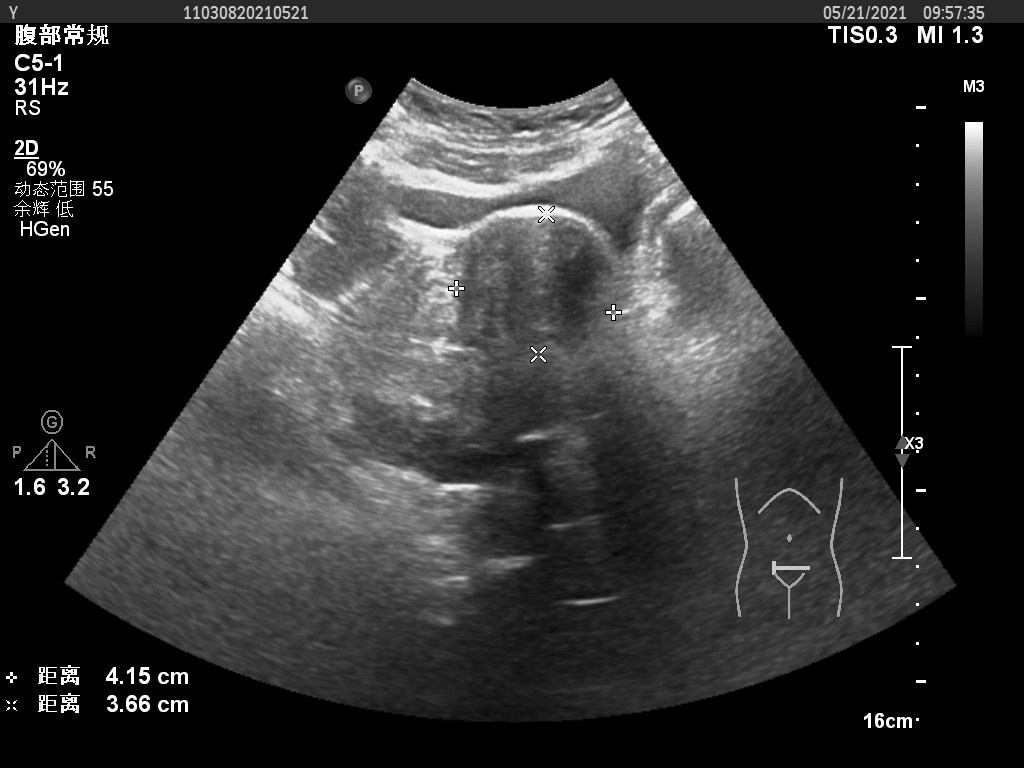肌瘤: (465, 228, 610, 352)
